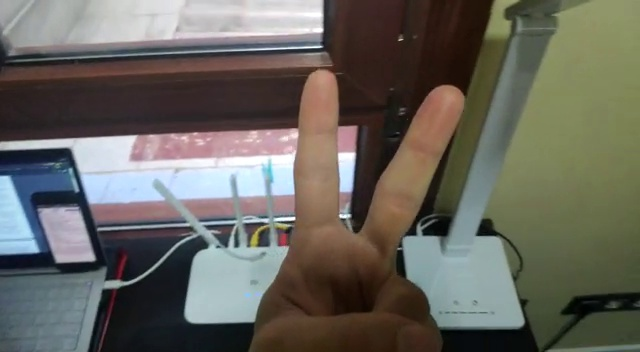Peace: (253, 66, 465, 352)
